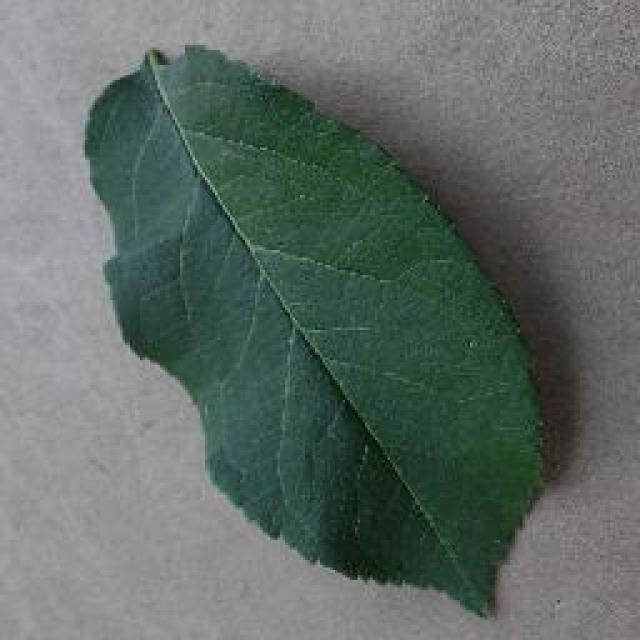apple healthy: (80, 40, 550, 618)
